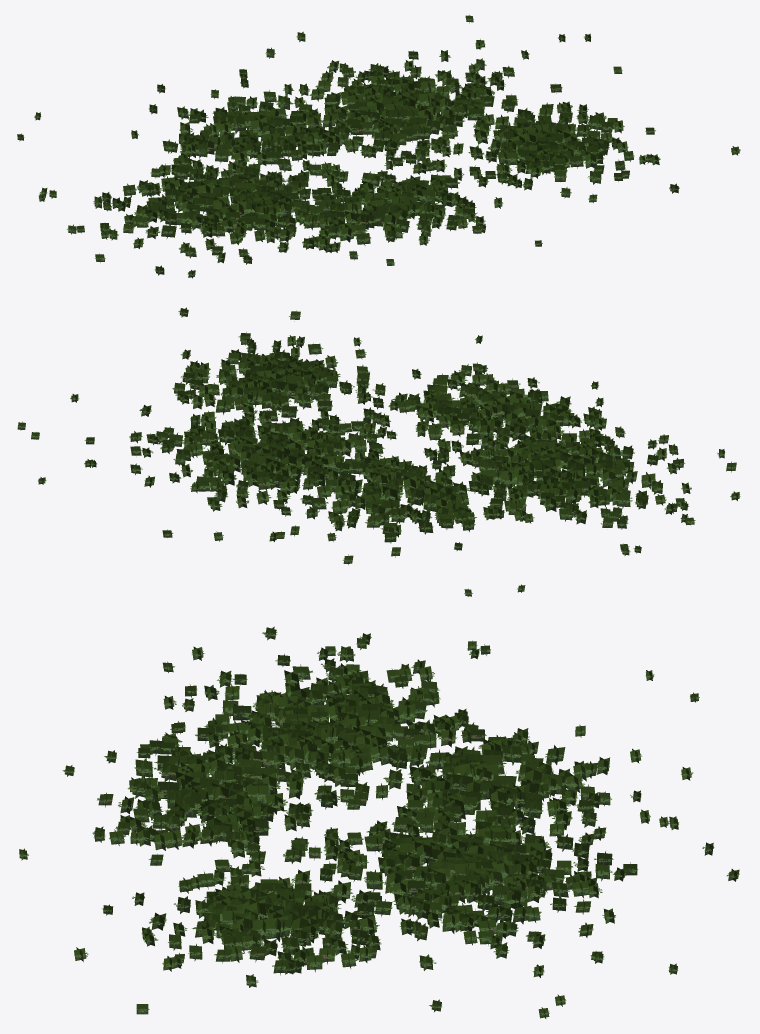
The model's file is Ground_Moss_ShootMat_03_LOD1.fbx.
3 views of the same model, one above another, from view 1: azimuth 30°, elevation 25°; view 2: azimuth 150°, elevation 25°; view 3: azimuth 270°, elevation 25° (orthographic). The views are drawn at different scales.
Parts seen in each view (by area): view 1: Ground_Moss_ShootMat_03_LOD1_Mesh; view 2: Ground_Moss_ShootMat_03_LOD1_Mesh; view 3: Ground_Moss_ShootMat_03_LOD1_Mesh.
Boxes of the visible parts, bbox=[...] form: Ground_Moss_ShootMat_03_LOD1_Mesh: bbox=[17, 15, 740, 278]; Ground_Moss_ShootMat_03_LOD1_Mesh: bbox=[17, 307, 740, 596]; Ground_Moss_ShootMat_03_LOD1_Mesh: bbox=[19, 626, 739, 1018].
Bounding box in the file's own units: 122 × 3.13 × 97.25.
Materials: 6 (2 with a texture image).
